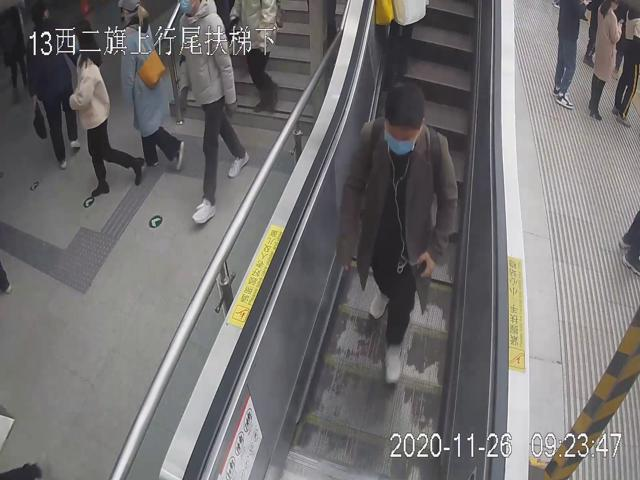person: (337, 81, 458, 390)
